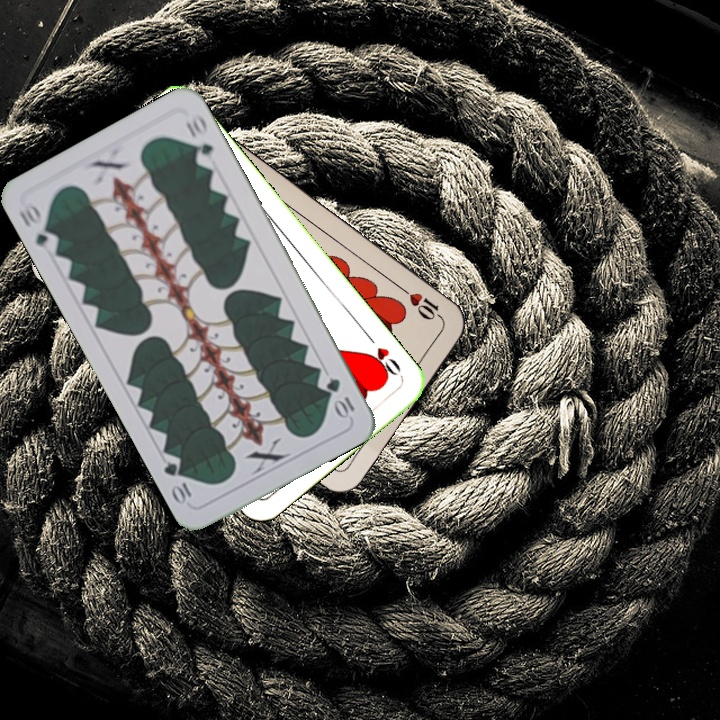G10: (14, 198, 62, 256), (322, 374, 358, 421)
H10: (396, 283, 447, 324)
HO: (363, 331, 404, 381)
